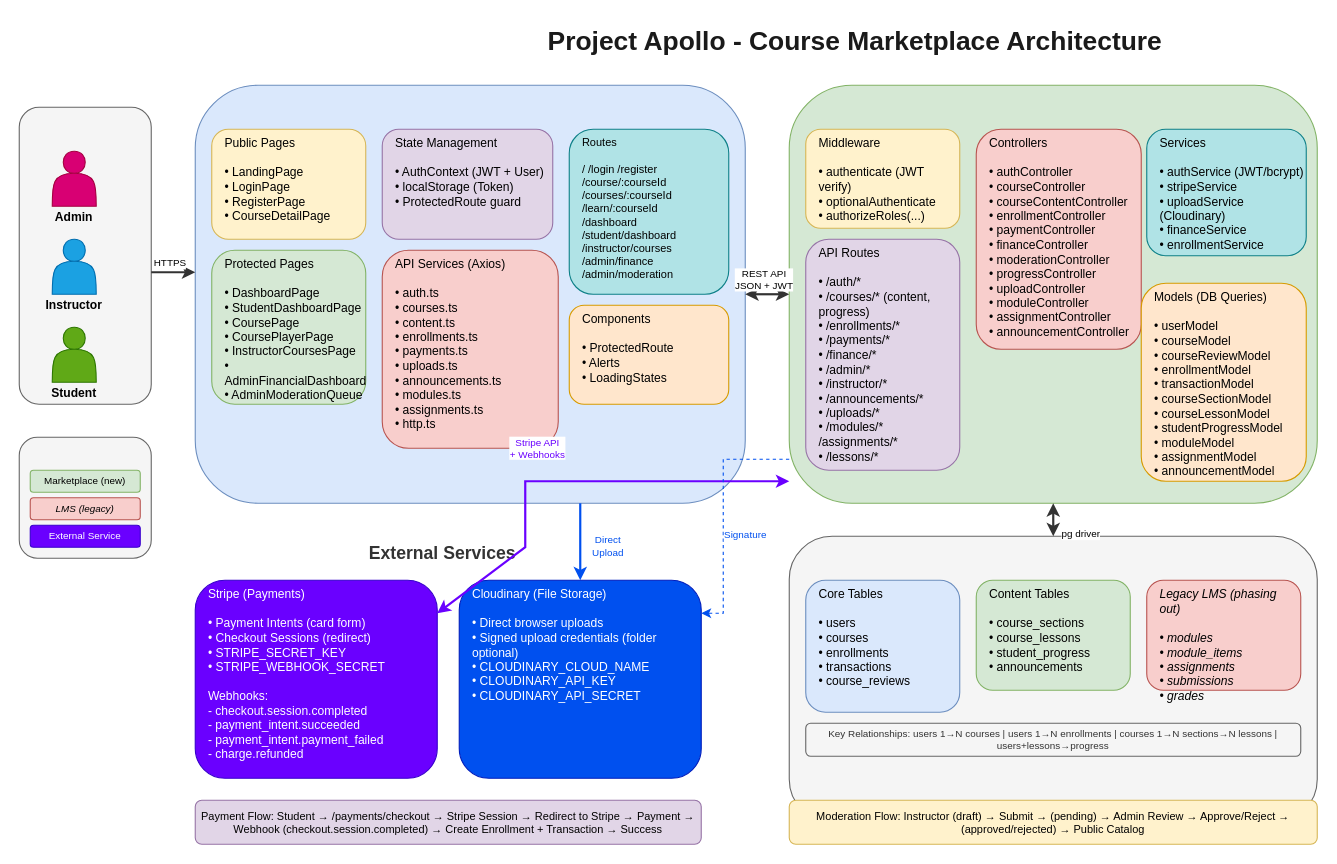
This 1337x864 diagram has some shape labels left out. Here are the shapes that lost their labels. From the top down, the box of each, then its label:
(18, 106, 151, 404): Users
(194, 84, 745, 503): Frontend (React 18 + Vite + TypeScript + Tailwind) - Port 5173
(788, 84, 1317, 503): Backend (Node.js + Express + TypeScript) - Port 5000 (env-configurable)
(18, 436, 151, 558): Legend
(788, 535, 1317, 822): PostgreSQL 14+
